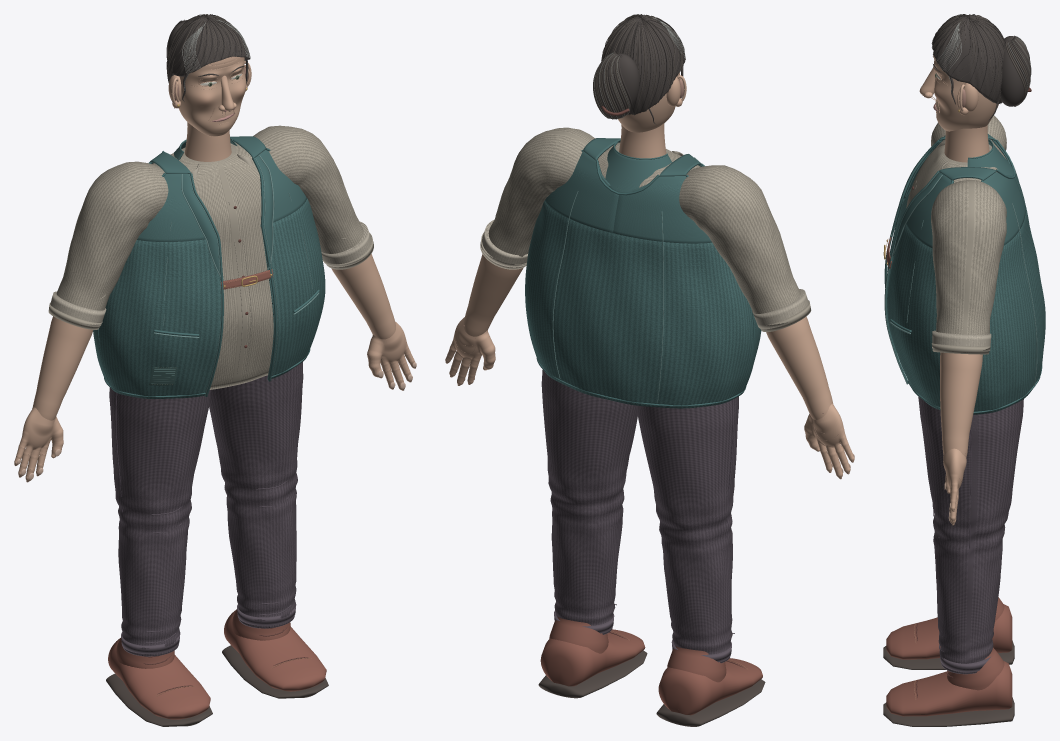
The picture shows the model from 3 angles, left to right: view 1: azimuth 30°, elevation 25°; view 2: azimuth 150°, elevation 25°; view 3: azimuth 270°, elevation 25°; orthographic projection.
Parts seen in each view (by area): view 1: Waistcoat • lower wrap and back, Trouser leg L, Trouser leg R, Blouse • soft broad torso, Blouse sleeve L, Blouse sleeve R, Leather boot upper L, Leather boot upper R, Face and cranium • long angular planes, Forearm L, Swept hair cap, Forearm R (+17 smaller); view 2: Waistcoat • lower wrap and back, Trouser leg L, Trouser leg R, Blouse sleeve L, Blouse sleeve R, Waistcoat back shoulder L, Swept hair cap, Forearm L, Leather boot upper L, Leather boot upper R, Waistcoat back shoulder R, Forearm R (+16 smaller); view 3: Trouser leg R, Waistcoat • lower wrap and back, Blouse sleeve R, Swept hair cap, Leather boot upper R, Forearm R, Leather boot upper L, Face and cranium • long angular planes, Stacked boot sole R, Hair | swept ridges • Hair ridges, Waistcoat back shoulder R, Neck and base of throat (+20 smaller).
Part boxes in pixels (x1=…): Waistcoat • lower wrap and back: x1=93, y1=198, x2=325, y2=398; Trouser leg L: x1=109, y1=387, x2=210, y2=656; Trouser leg R: x1=209, y1=362, x2=303, y2=628; Blouse • soft broad torso: x1=152, y1=142, x2=273, y2=389; Blouse sleeve L: x1=56, y1=161, x2=168, y2=310; Blouse sleeve R: x1=253, y1=125, x2=363, y2=253; Leather boot upper L: x1=108, y1=638, x2=210, y2=719; Leather boot upper R: x1=224, y1=610, x2=326, y2=691; Face and cranium • long angular planes: x1=178, y1=56, x2=246, y2=136; Forearm L: x1=32, y1=316, x2=93, y2=420; Swept hair cap: x1=167, y1=15, x2=249, y2=81; Forearm R: x1=331, y1=254, x2=395, y2=339; Waistcoat • lower wrap and back: x1=525, y1=201, x2=761, y2=408; Trouser leg L: x1=637, y1=396, x2=738, y2=663; Trouser leg R: x1=541, y1=369, x2=637, y2=634; Blouse sleeve L: x1=679, y1=165, x2=800, y2=313; Blouse sleeve R: x1=488, y1=127, x2=594, y2=256; Waistcoat back shoulder L: x1=613, y1=176, x2=711, y2=243; Swept hair cap: x1=602, y1=15, x2=684, y2=114; Forearm L: x1=766, y1=316, x2=833, y2=419; Leather boot upper L: x1=658, y1=658, x2=762, y2=715; Leather boot upper R: x1=540, y1=629, x2=645, y2=686; Waistcoat back shoulder R: x1=544, y1=151, x2=618, y2=232; Forearm R: x1=463, y1=254, x2=523, y2=336; Trouser leg R: x1=918, y1=396, x2=1023, y2=674; Waistcoat • lower wrap and back: x1=887, y1=189, x2=1045, y2=414; Blouse sleeve R: x1=931, y1=180, x2=1006, y2=334; Swept hair cap: x1=932, y1=15, x2=1003, y2=103; Leather boot upper R: x1=886, y1=661, x2=1012, y2=716; Forearm R: x1=940, y1=352, x2=982, y2=457; Leather boot upper L: x1=886, y1=604, x2=1012, y2=659; Face and cranium • long angular planes: x1=934, y1=56, x2=998, y2=131; Stacked boot sole R: x1=883, y1=697, x2=1014, y2=726; Hair | swept ridges • Hair ridges: x1=931, y1=14, x2=1004, y2=103; Waistcoat back shoulder R: x1=983, y1=172, x2=1025, y2=245; Neck and base of throat: x1=944, y1=125, x2=989, y2=162.
Size of the model in its own units: 1.19 by 1.88 by 0.4128.
Materials: 32 (5 with a texture image).
